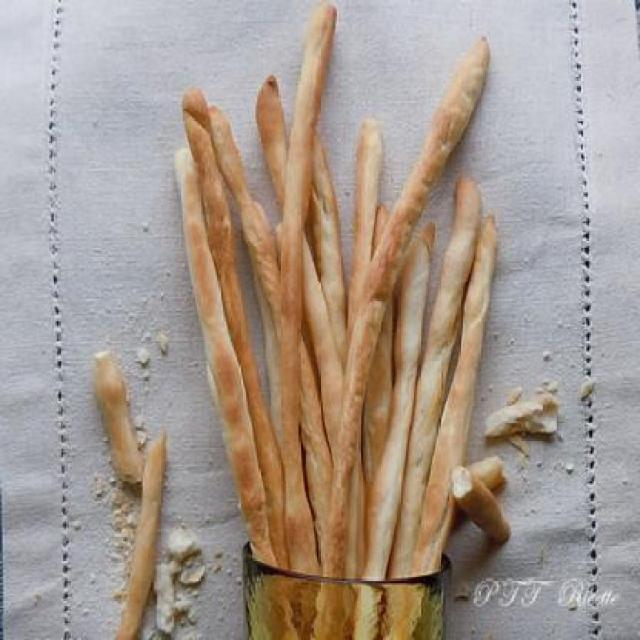Grissini: (168, 4, 490, 566)
